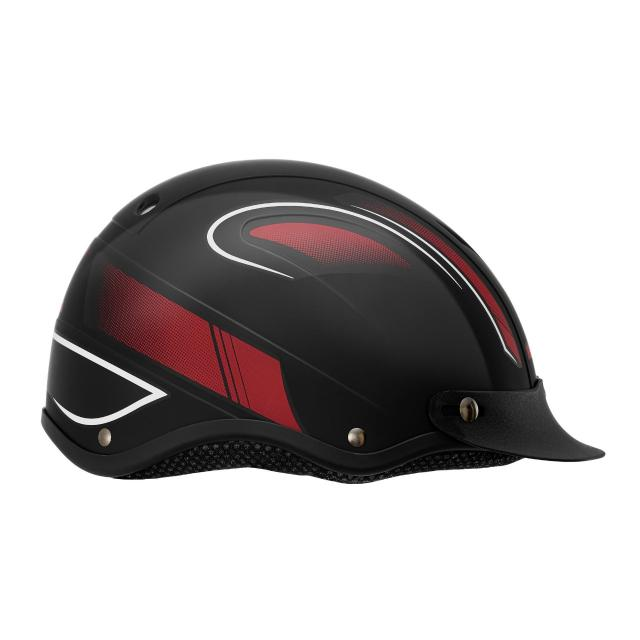Helmet: (39, 155, 606, 486)
